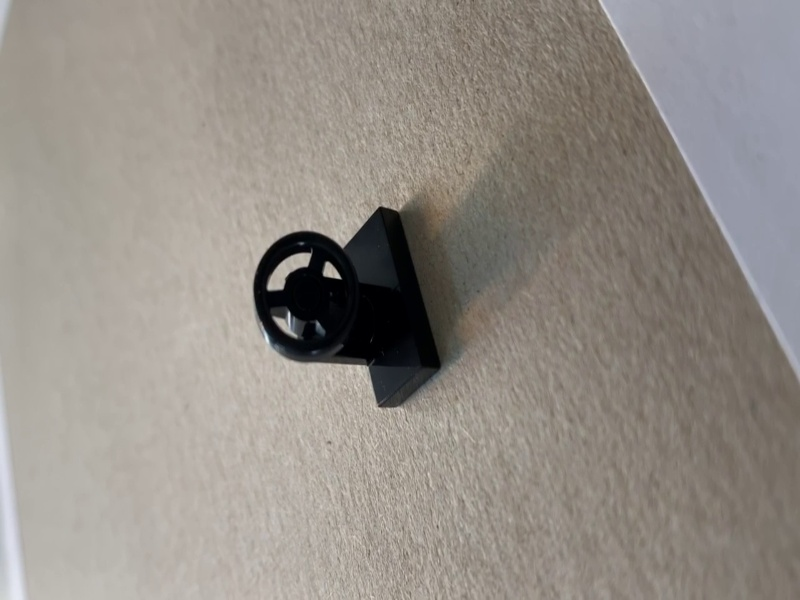steering wheel: (253, 205, 442, 409)
